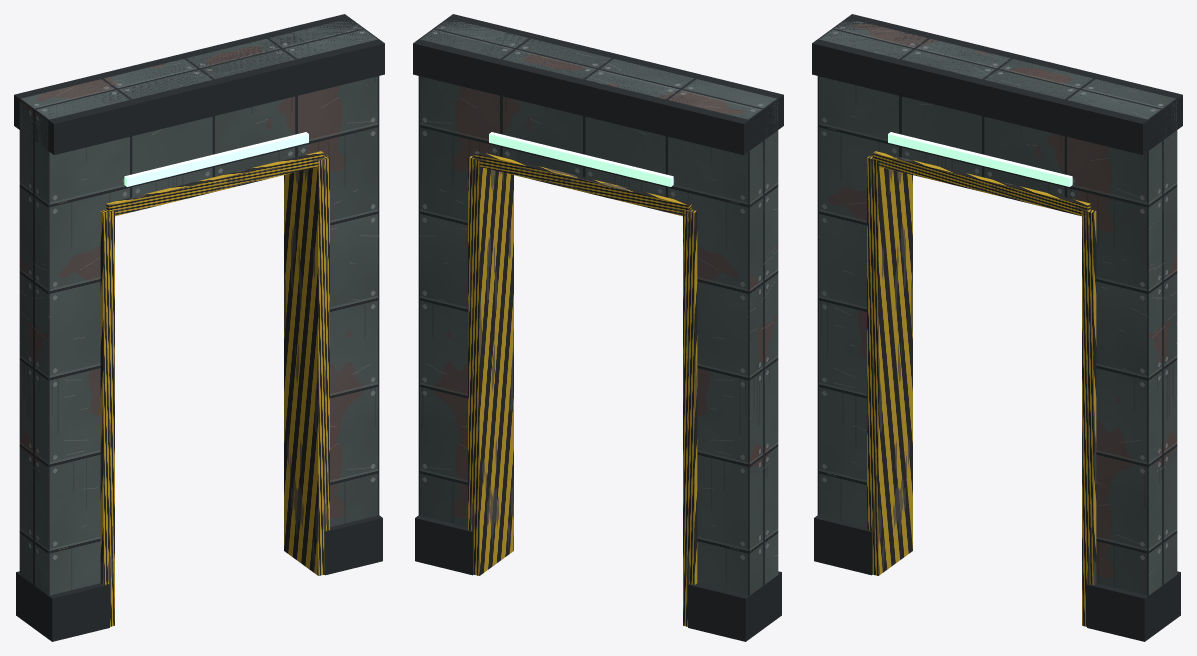
The model's file is wall_door.glb.
3 renders of one model, left to right at view 1: azimuth 30°, elevation 25°; view 2: azimuth 150°, elevation 25°; view 3: azimuth 330°, elevation 25°, orthographic.
Parts seen in each view (by area): view 1: wall_door; view 2: wall_door; view 3: wall_door.
Boxes of the visible parts, bbox=[...] form: wall_door: bbox=[14, 14, 384, 641]; wall_door: bbox=[413, 14, 783, 641]; wall_door: bbox=[812, 14, 1182, 641].
Size of the model in its own units: 2 by 3 by 0.42.
4 materials, 2 textured.
